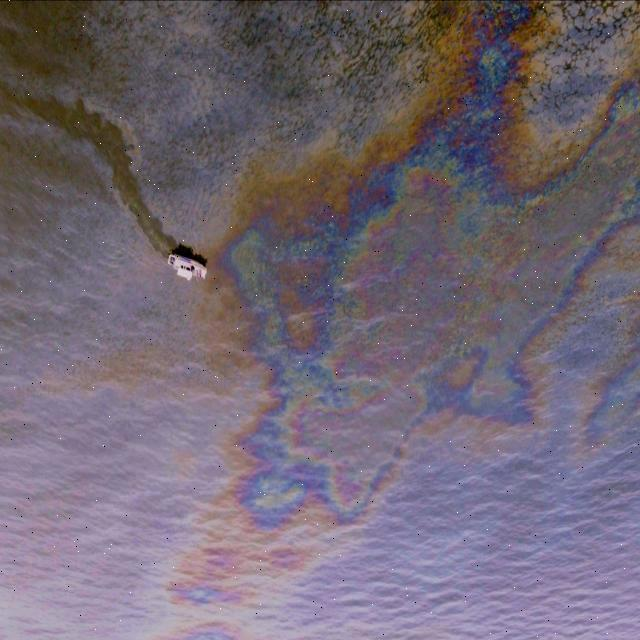oil: (214, 17, 639, 500)
